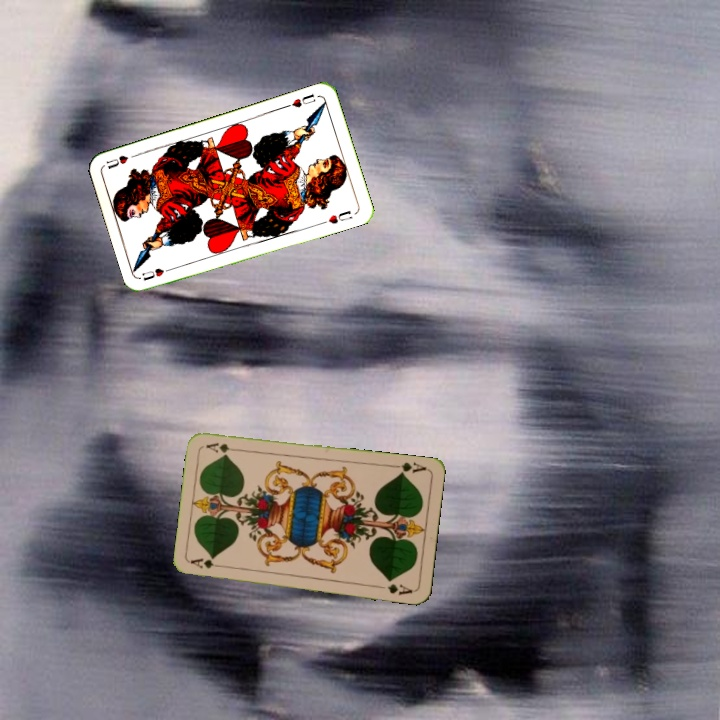GA: (388, 458, 429, 477), (187, 555, 228, 571)
HU: (138, 263, 178, 283), (281, 89, 318, 110)
